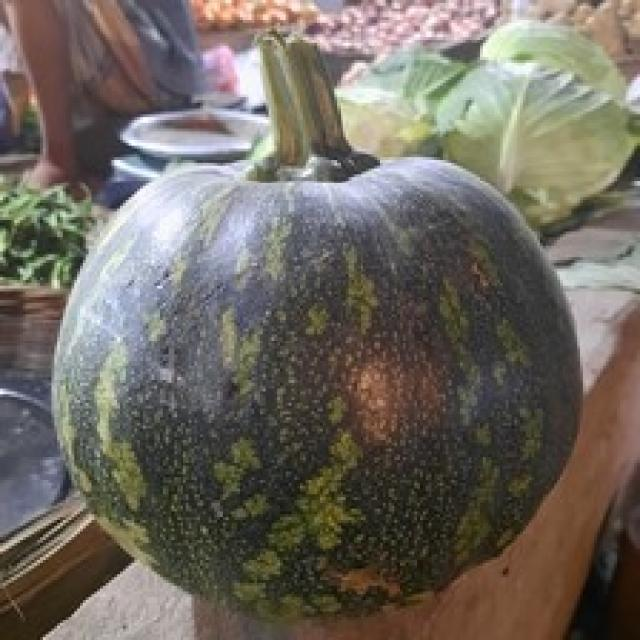Pumpkin: (48, 78, 612, 628)
